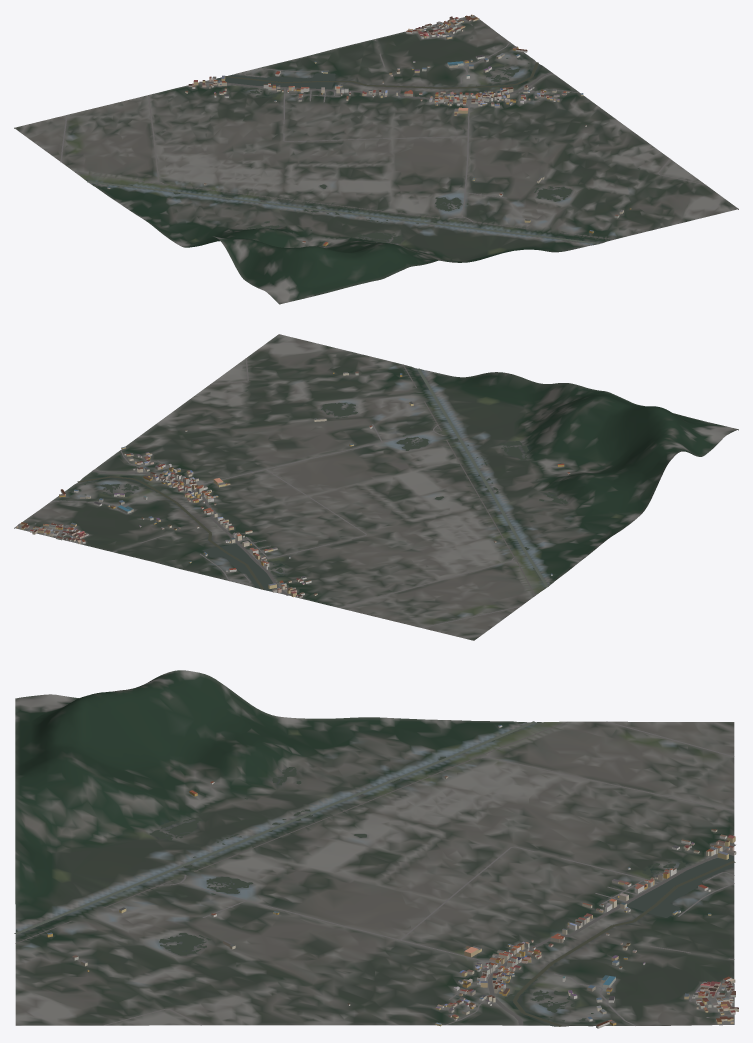
The picture shows the model from 3 angles, top to bottom: view 1: azimuth 30°, elevation 25°; view 2: azimuth 150°, elevation 25°; view 3: azimuth 270°, elevation 25°; orthographic projection. The views are drawn at different scales.
Visible parts, largest first — view 1: ground, water, buildings, roads; view 2: ground, water, buildings, roads; view 3: ground, water, buildings, roads.
Part boxes in pixels (x1,y1,x2,y2): ground: (14, 15, 738, 304); water: (86, 58, 599, 244); buildings: (107, 14, 631, 246); roads: (60, 15, 705, 239); ground: (14, 334, 738, 640); water: (77, 368, 567, 591); buildings: (16, 371, 570, 597); roads: (15, 358, 535, 627); ground: (15, 670, 734, 1026); water: (14, 721, 735, 1026); buildings: (47, 725, 738, 1028); roads: (15, 721, 735, 1025).
Size of the model in its own units: 1418 by 129 by 1414.
